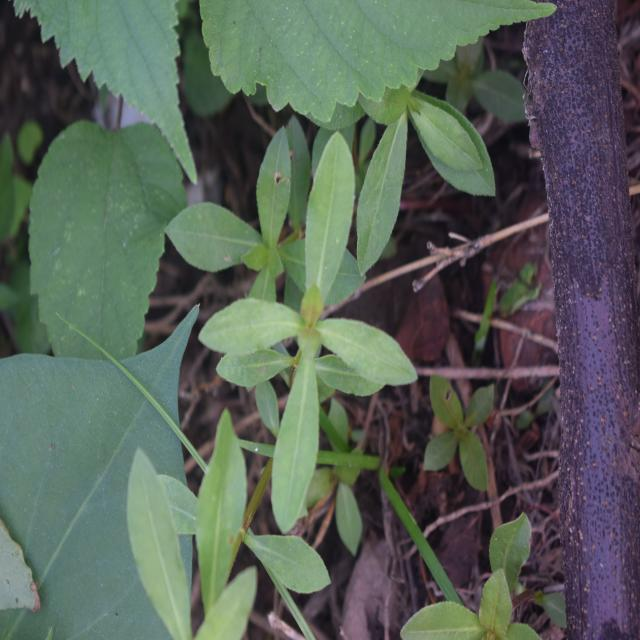Alligatorweed: (205, 134, 410, 502)
